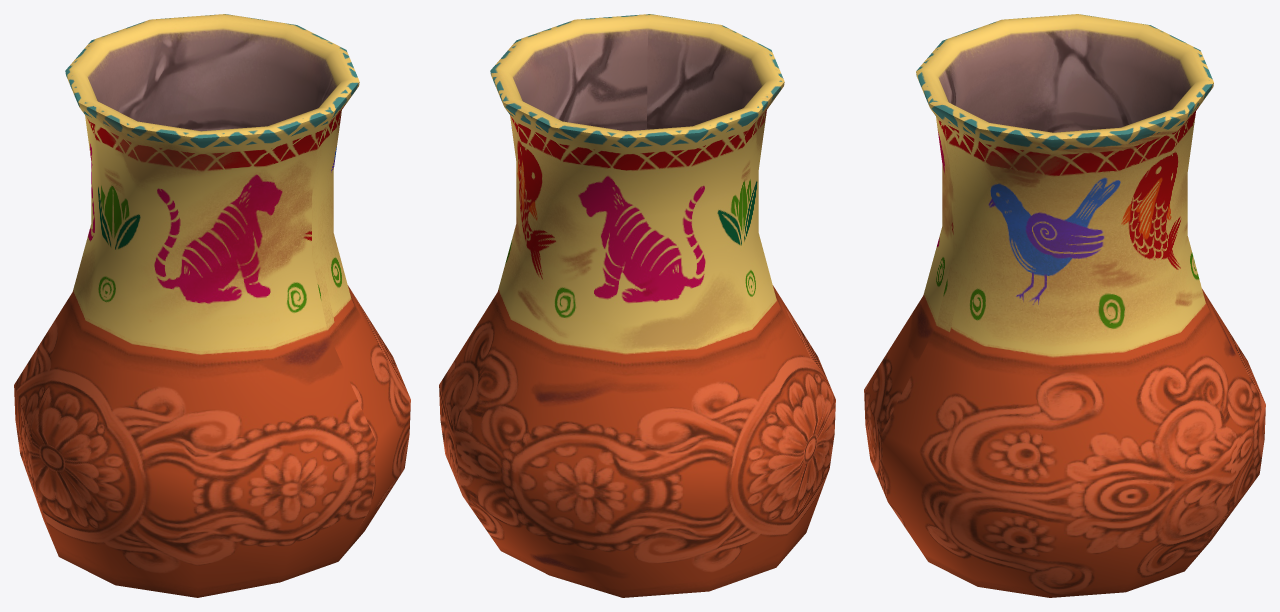
Rendered from Market_pottery2.fbx.
The picture shows the model from 3 angles, left to right: view 1: azimuth 30°, elevation 25°; view 2: azimuth 150°, elevation 25°; view 3: azimuth 270°, elevation 25°; orthographic projection.
Parts seen in each view (by area): view 1: Market_pottery2; view 2: Market_pottery2; view 3: Market_pottery2.
Part boxes in pixels (bbox=[...]): Market_pottery2: bbox=[14, 14, 410, 597]; Market_pottery2: bbox=[439, 14, 835, 597]; Market_pottery2: bbox=[864, 14, 1265, 597].
Size of the model in its own units: 0.1838 by 0.2311 by 0.1838.
